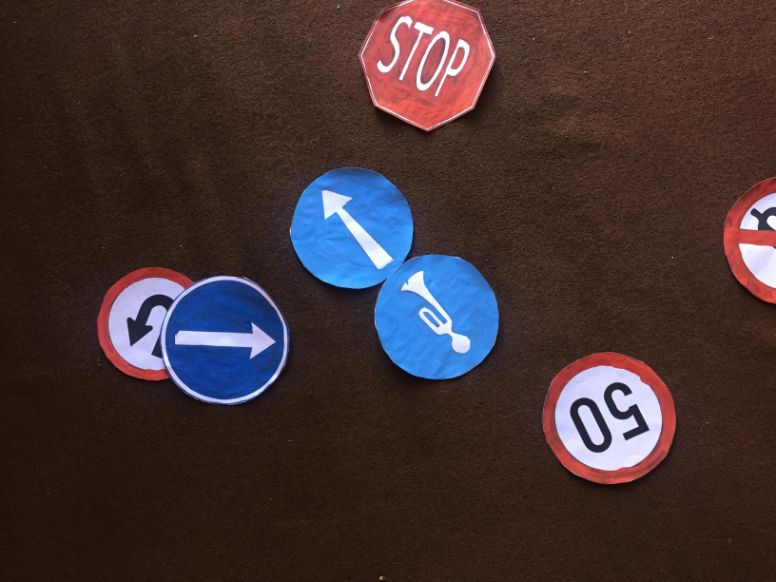blow-horn: (378, 260, 500, 378)
go-stright: (161, 278, 285, 398)
keep-left: (289, 167, 407, 282)
speed-50: (544, 351, 677, 488)
stop: (358, 1, 495, 135)
u-turn: (97, 267, 163, 382)
